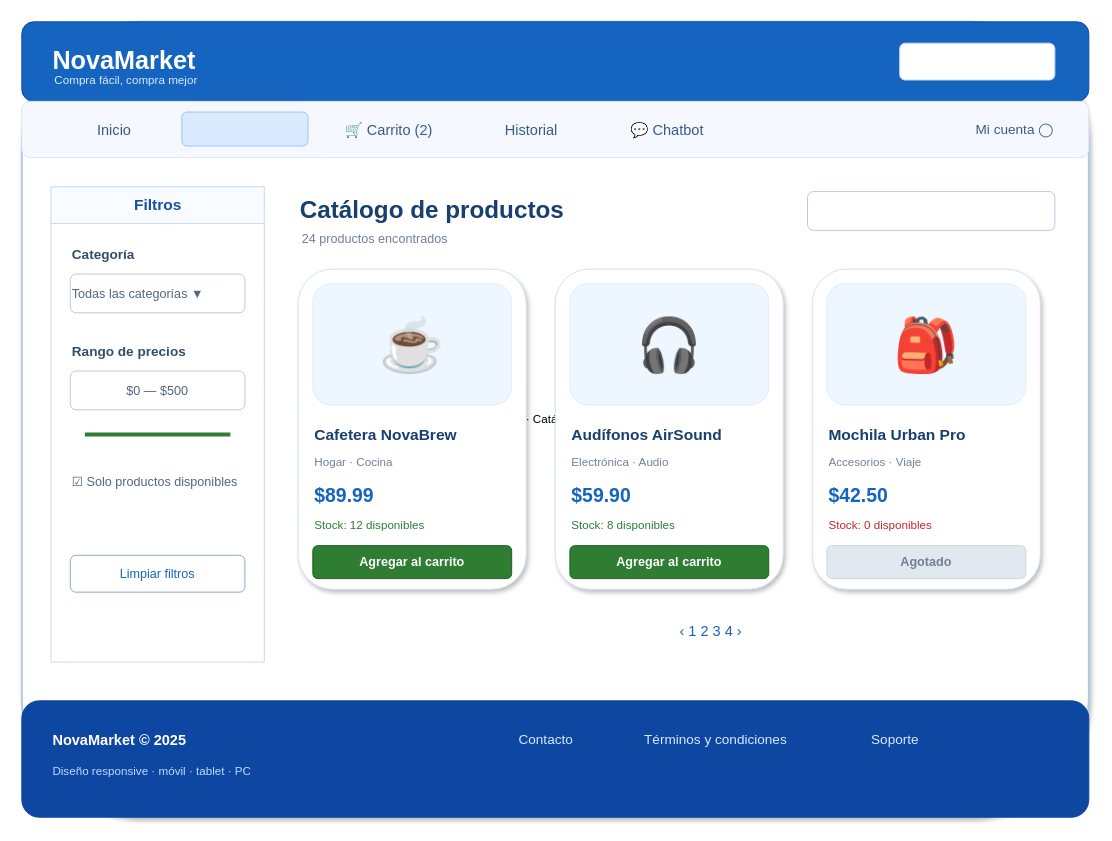
Some shapes in this 1112 by 841 pixel diagram are drawn without their labels. The shapes that lost their labels are listed below. From the top down, each one's centre as x and y in pixels, then its label:
[977,61]: 🌐 Español ▼
[244,128]: Catálogo
[931,210]: Ordenar por: Relevancia ▼
